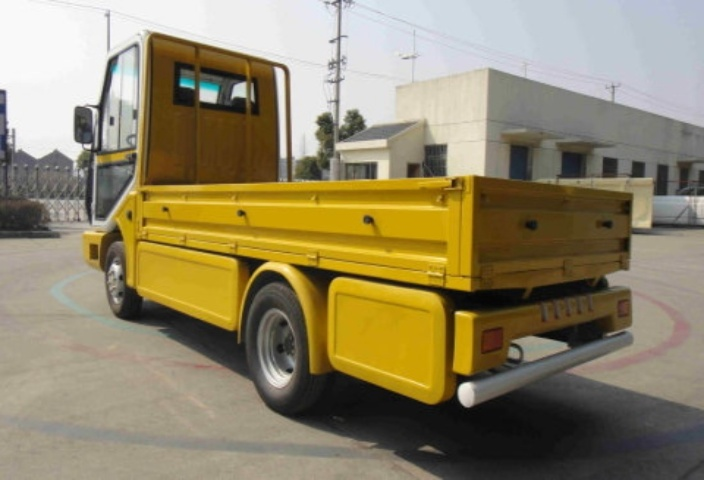truck: (38, 20, 665, 417)
